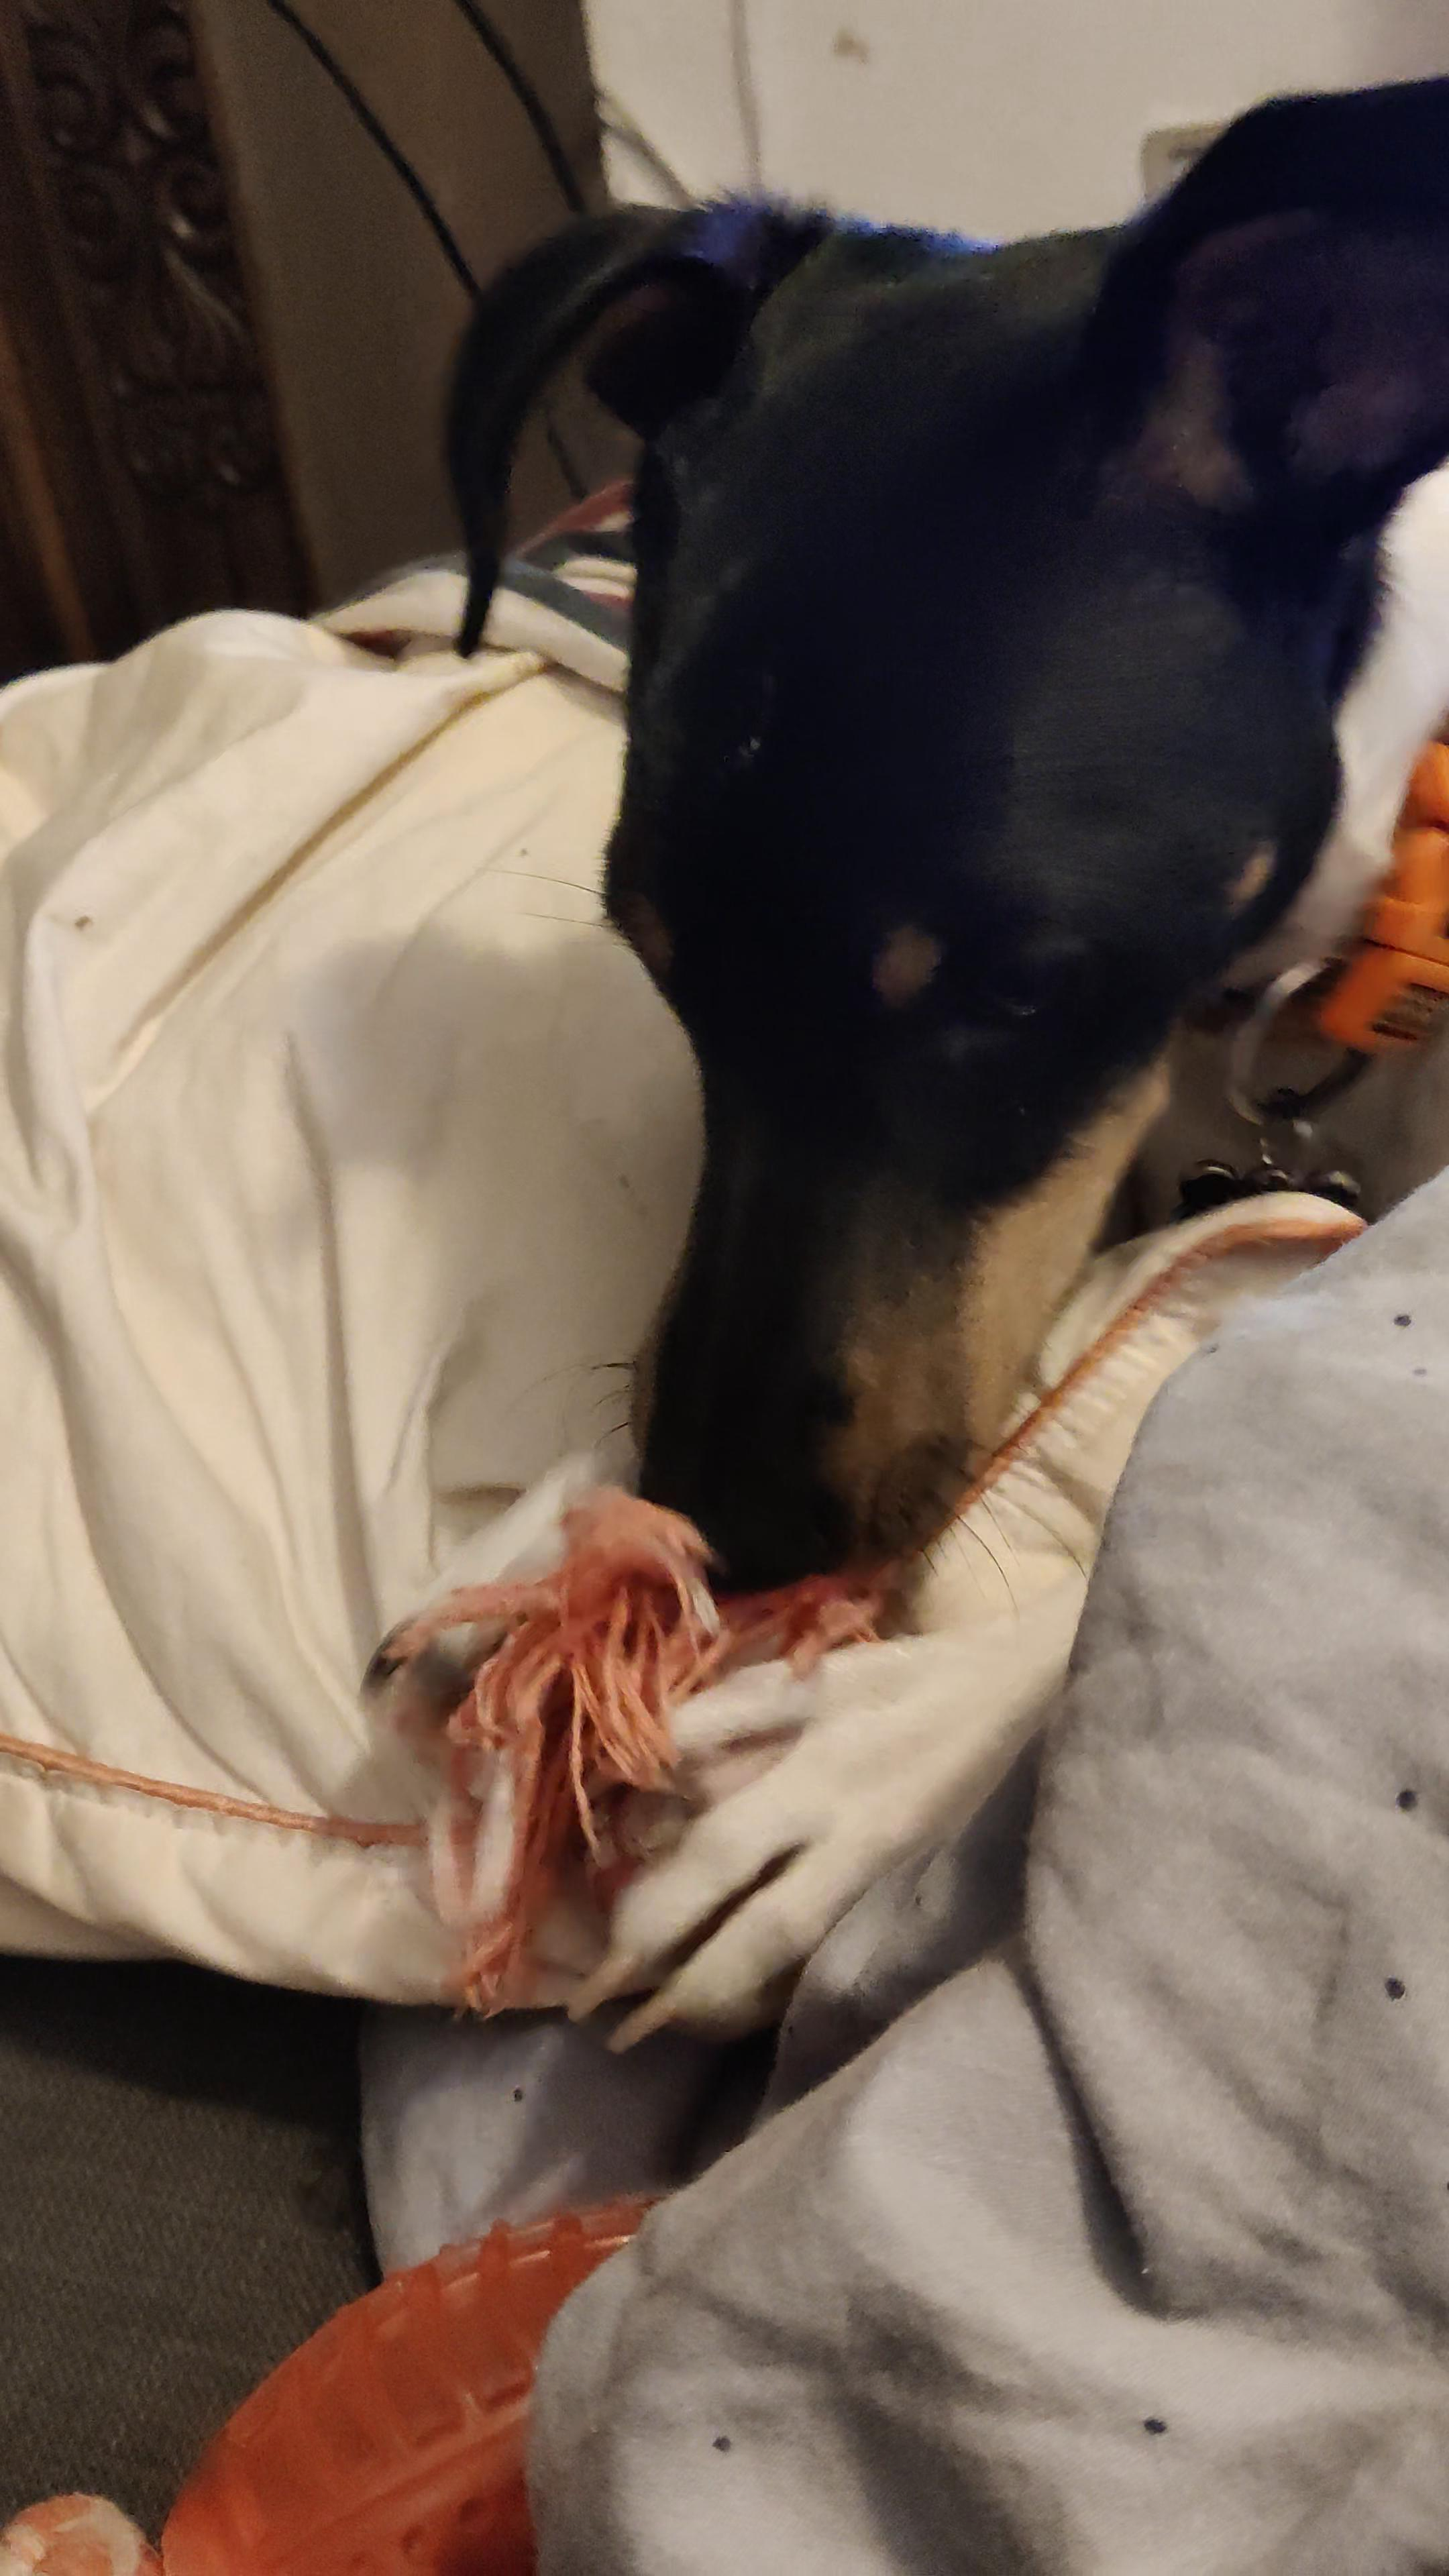Dog: (350, 58, 1449, 2068)
